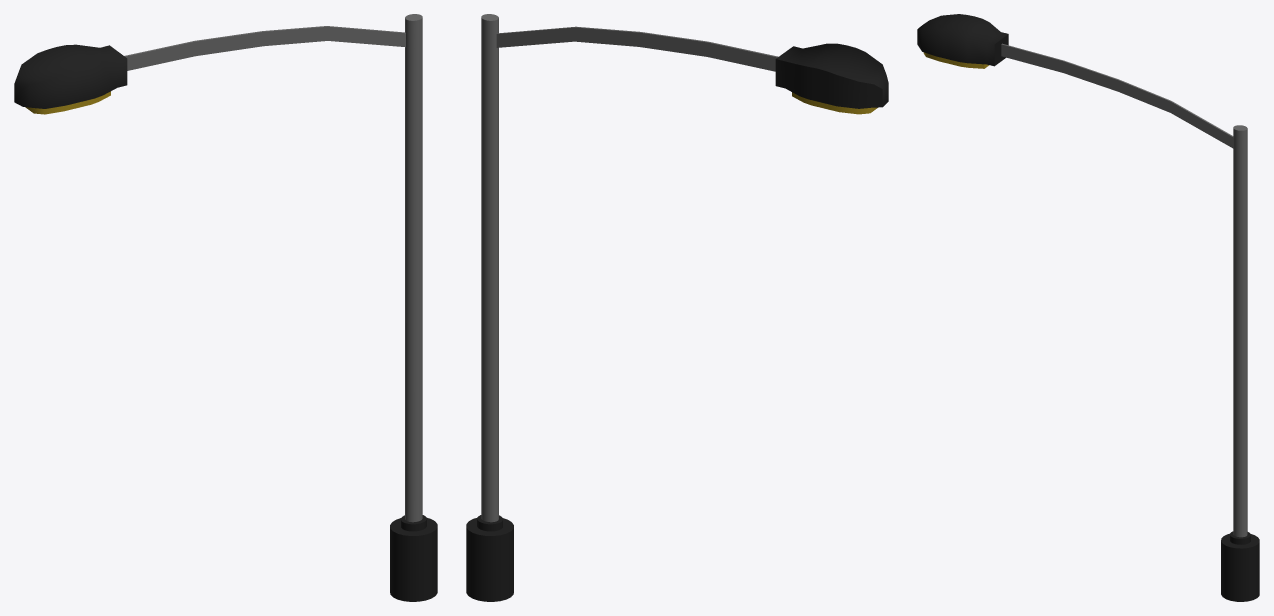
Rendered from RoadLamp_M_v1_Carrie.FBX.
3 renders of one model, left to right at view 1: azimuth 30°, elevation 25°; view 2: azimuth 150°, elevation 25°; view 3: azimuth 330°, elevation 25°, orthographic. The views are drawn at different scales.
Parts seen in each view (by area): view 1: roadlamp; view 2: roadlamp; view 3: roadlamp.
Part boxes in pixels (bbox=[...]): roadlamp: bbox=[14, 14, 437, 601]; roadlamp: bbox=[466, 14, 888, 601]; roadlamp: bbox=[917, 14, 1259, 601].
Bounding box in the file's own units: 954 × 1356 × 113.
